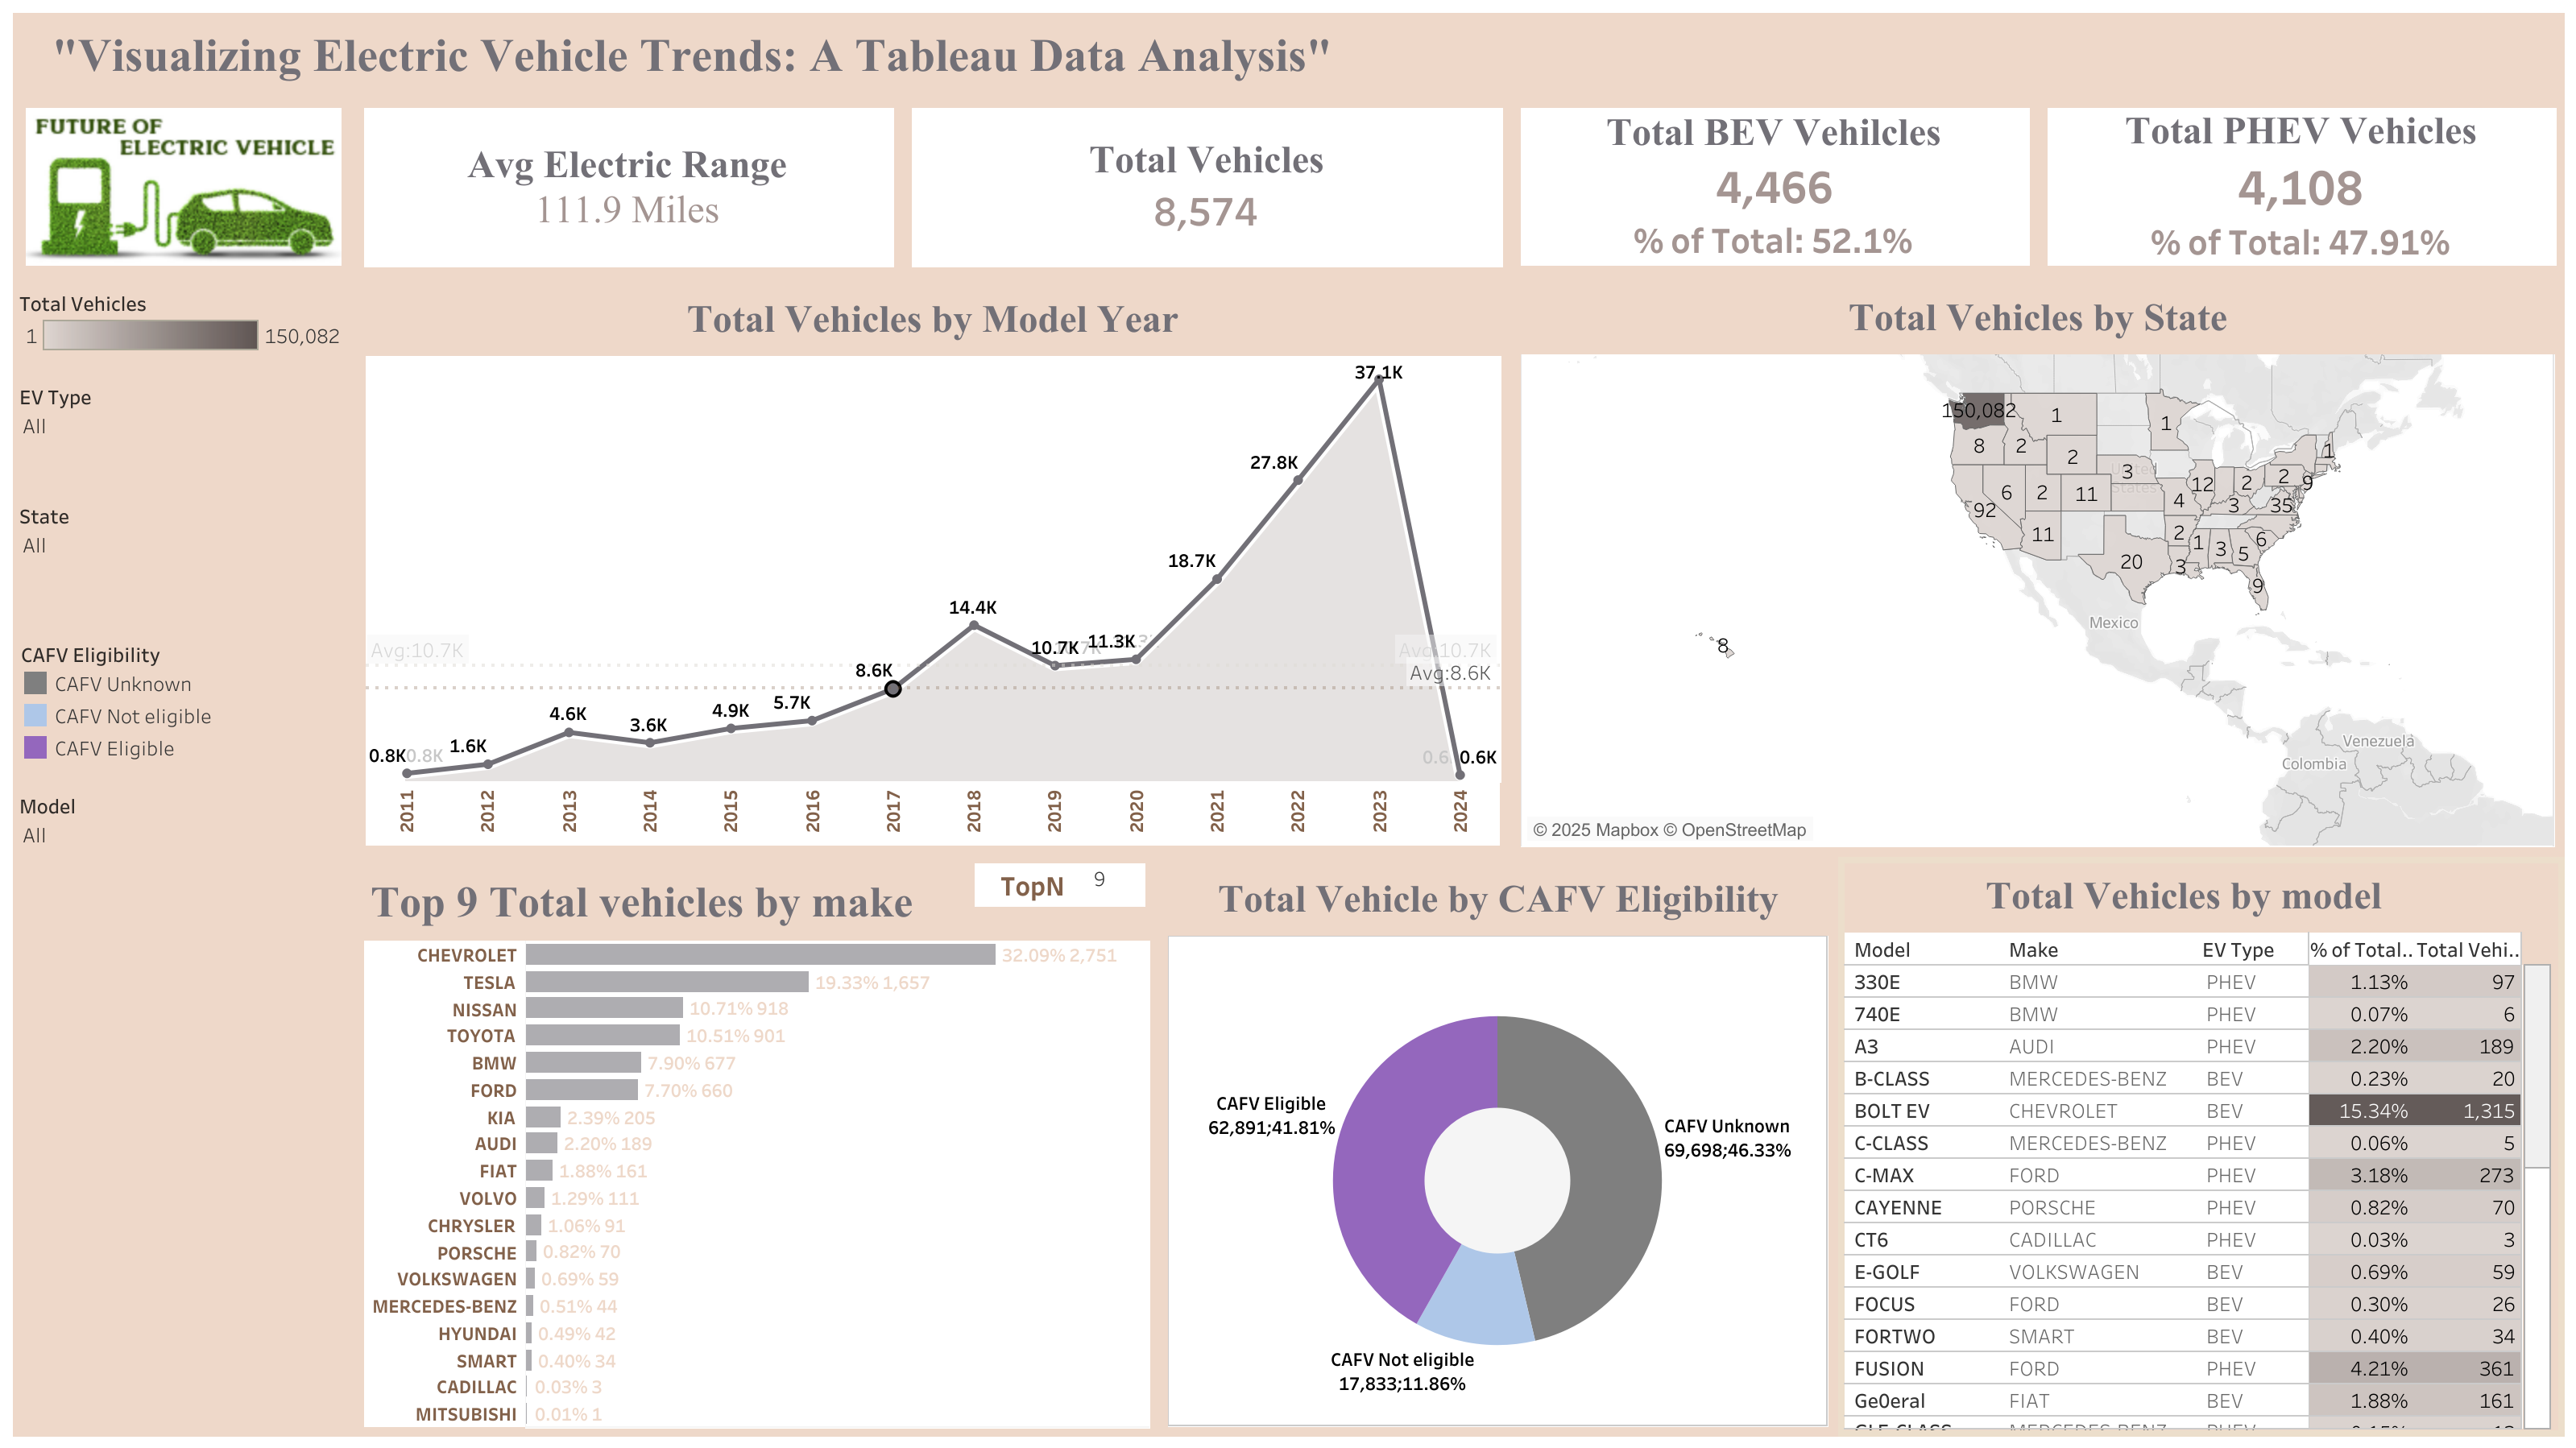

Layout of this report page (visuals, bound fields, positions):
{"tool":"tableau","page":{"name":"Dashboard 2","canvas":[1600,900],"ordinal":0},"visuals":[{"type":"title","box":[8,8,1584,53]},{"type":"image","param":"D:/Projects/OneDrive - Northumbria University - Production Azure AD/Desktop/Tabl","box":[8,61,212,110]},{"type":"worksheet","title":"Avg Electric range","mark":"Automatic","box":[220,61,340,110.5]},{"type":"worksheet","title":"Total Vehicles","mark":"Automatic","box":[560,61,378.1,110.5]},{"type":"worksheet","title":"Total BEV Vehicles","mark":"Automatic","box":[938.1,61,326.9,110.5]},{"type":"worksheet","title":"Total PHEV Vehicles (2)","mark":"Automatic","box":[1265,61,327,110.5]},{"type":"legend","title":"Total Vehicles by state","param":"[federated.1cejltm17qsmtj19vo7wu0eikrl3].[usr:Calculation_623467117613875200:qk]","box":[8,171,212,61]},{"type":"worksheet","title":"Total Vehicles by Model Year","mark":"Area","rows":["Calculation_623467117613875200","Calculation_623467117613875200"],"cols":["Model Year"],"box":[220,171.5,718.5,360.2]},{"type":"worksheet","title":"Total Vehicles by state","mark":"Multipolygon","box":[938.5,171.5,653.5,360.2]},{"type":"filter","title":"Top 10 Total vehicles by make","param":"[federated.1cejltm17qsmtj19vo7wu0eikrl3].[none:Electric Vehicle Type:nk]","box":[8,232,212,74]},{"type":"filter","title":"Top 10 Total vehicles by make","param":"[federated.1cejltm17qsmtj19vo7wu0eikrl3].[none:State:nk]","box":[8,306,212,85]},{"type":"legend","title":"Total Vehicle by CAFV Eligibility","param":"[federated.1cejltm17qsmtj19vo7wu0eikrl3].[none:Clean Alternative Fuel Vehicle (C","box":[8,391,212,95]},{"type":"filter","title":"Total Vehicles by Model Year","param":"[federated.1cejltm17qsmtj19vo7wu0eikrl3].[none:Model:nk]","box":[8,486,212,64]},{"type":"worksheet","title":"Top 10 Total vehicles by make","mark":"Automatic","rows":["Make"],"cols":["Calculation_623467117613875200"],"box":[220,531.6,499,360.4]},{"type":"worksheet","title":"Total Vehicle by CAFV Eligibility","mark":"Pie","rows":["Calculation_623467117643948047","Calculation_623467117644136465"],"box":[719,531.6,422,360.4]},{"type":"worksheet","title":"Total Vehiles by model","mark":"Square","rows":["Model","Make","Electric Vehicle Type"],"box":[1141,531.6,451,360.4]},{"type":"parameter","param":"[Parameters].[Parameter 1]","box":[605,536,106,27]}]}

Visuals, with their boxes in screenshot pixels (x1, y1, x2, y2), scaled from the page's 1600x900 canvas onto the 2576x1448 screenshot:
title: 13:13:2563:98
image: 13:98:354:275
"Avg Electric range" worksheet: 354:98:901:276
"Total Vehicles" worksheet: 901:98:1510:276
"Total BEV Vehicles" worksheet: 1510:98:2036:276
"Total PHEV Vehicles (2)" worksheet: 2036:98:2563:276
"Total Vehicles by state" legend: 13:275:354:373
"Total Vehicles by Model Year" worksheet (Area marks): 354:276:1511:855
"Total Vehicles by state" worksheet (Multipolygon marks): 1511:276:2563:855
"Top 10 Total vehicles by make" filter: 13:373:354:492
"Top 10 Total vehicles by make" filter: 13:492:354:629
"Total Vehicle by CAFV Eligibility" legend: 13:629:354:782
"Total Vehicles by Model Year" filter: 13:782:354:885
"Top 10 Total vehicles by make" worksheet: 354:855:1158:1435
"Total Vehicle by CAFV Eligibility" worksheet (Pie marks): 1158:855:1837:1435
"Total Vehiles by model" worksheet (Square marks): 1837:855:2563:1435
parameter: 974:863:1145:906
